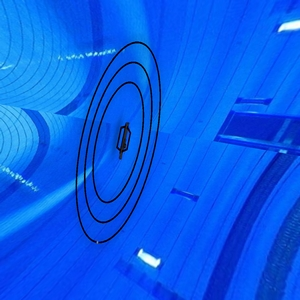circle: (72, 39, 172, 245)
submarine: (116, 118, 139, 160)
